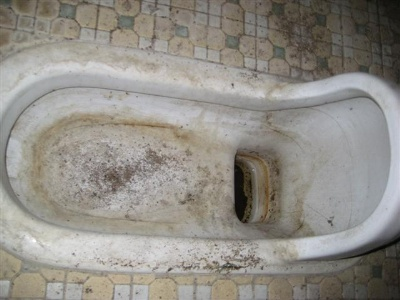toilet: (1, 40, 400, 273)
